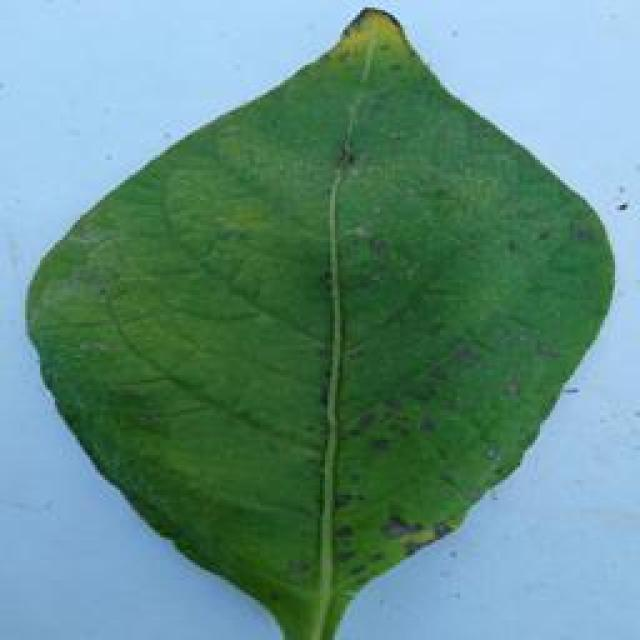Potato_Early_Blight: (22, 12, 640, 640)
